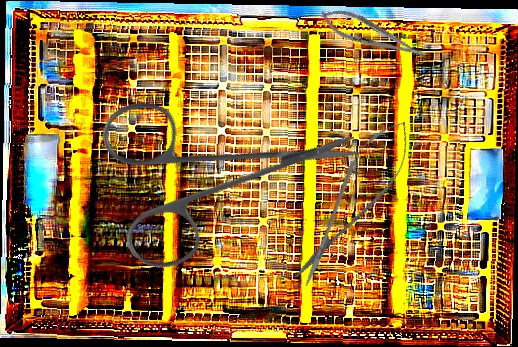Iris Scissors: (51, 17, 368, 330)
Micro Scissor: (279, 108, 426, 296)
Needle Holder: (316, 1, 431, 70)
